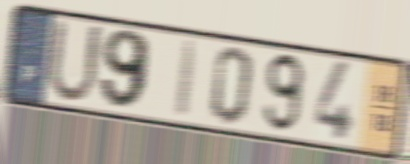0: (207, 43, 255, 129)
4: (312, 56, 357, 146)
9: (99, 27, 156, 115), (259, 50, 308, 137)
I: (173, 37, 202, 122)
U: (44, 15, 106, 108)
